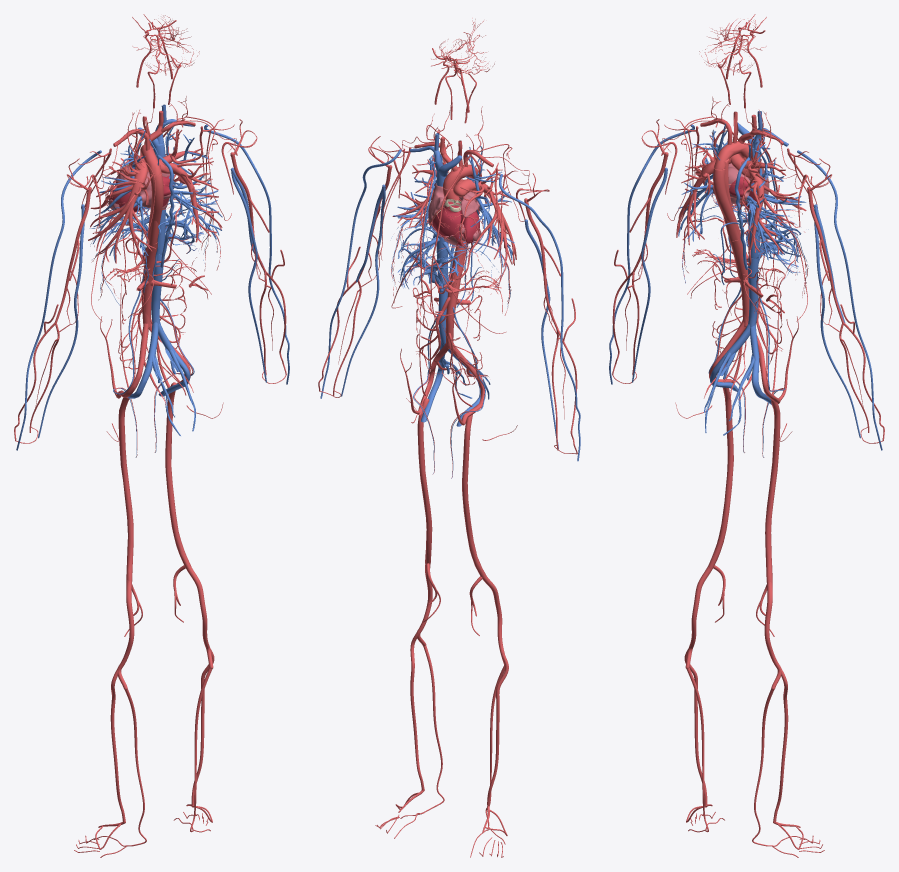
The model's file is circulatory_lod1.glb.
3 renders of one model, left to right at view 1: azimuth 30°, elevation 25°; view 2: azimuth 150°, elevation 25°; view 3: azimuth 330°, elevation 25°, orthographic. The views are drawn at different scales.
Visible parts, largest first — view 1: FJ2074, FJ2143, FJ3427, FJ2220, FJ2272, FJ2218, FJ2270, FJ2065, FJ2086, FJ2170, FJ3659, FJ2130; view 2: FJ2074, FJ2143, FJ2220, FJ2423, FJ2272, FJ2270, FJ2130, FJ2065, FJ2218, FJ1932, FJ2404; view 3: FJ2143, FJ2074, FJ3427, FJ2272, FJ2220, FJ2218, FJ2270, FJ2130, FJ2170, FJ3659, FJ2086, FJ2065.
Part boxes in pixels (x1,y1,x2,y2): FJ2074: (118, 397, 133, 582); FJ2143: (165, 382, 191, 569); FJ3427: (143, 173, 163, 323); FJ2220: (16, 150, 101, 450); FJ2272: (204, 124, 289, 384); FJ2218: (38, 204, 84, 438); FJ2270: (231, 167, 266, 382); FJ2065: (110, 669, 125, 822); FJ2086: (117, 580, 134, 689); FJ2170: (186, 566, 213, 668); FJ3659: (151, 254, 163, 324); FJ2130: (191, 648, 214, 804); FJ2074: (462, 409, 486, 579); FJ2143: (417, 398, 432, 564); FJ2220: (499, 174, 580, 461); FJ2423: (432, 201, 463, 245); FJ2272: (320, 149, 401, 398); FJ2270: (341, 184, 385, 396); FJ2130: (410, 633, 424, 790); FJ2065: (487, 654, 508, 806); FJ2218: (524, 219, 558, 448); FJ1932: (446, 254, 465, 348); FJ2404: (398, 240, 469, 288); FJ2143: (765, 395, 780, 582); FJ2074: (708, 387, 733, 569); FJ3427: (713, 167, 749, 327); FJ2272: (797, 150, 882, 450); FJ2220: (609, 124, 694, 384); FJ2218: (632, 167, 667, 382); FJ2270: (814, 204, 860, 438); FJ2130: (773, 669, 788, 822); FJ2170: (764, 581, 781, 689); FJ3659: (748, 256, 758, 327); FJ2086: (685, 566, 712, 668); FJ2065: (684, 648, 707, 804).
Bounding box in the file's own units: 55.9 × 165 × 21.33.
